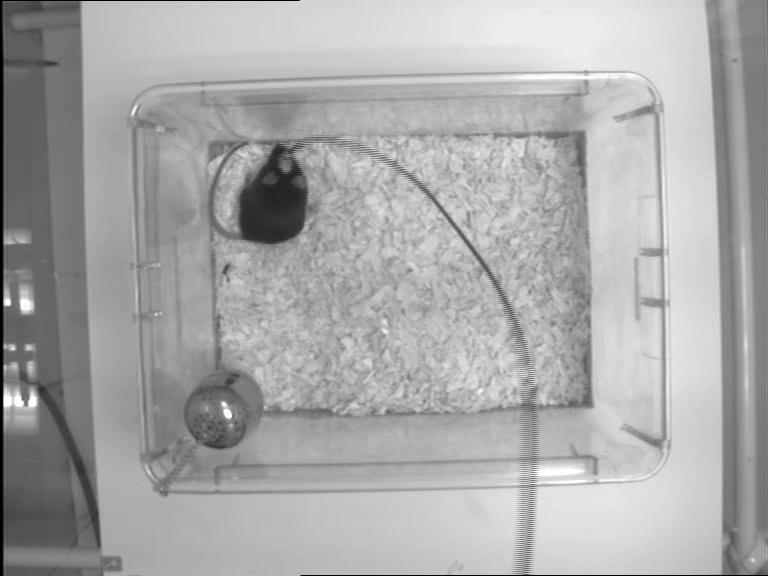mice: (207, 138, 311, 247)
